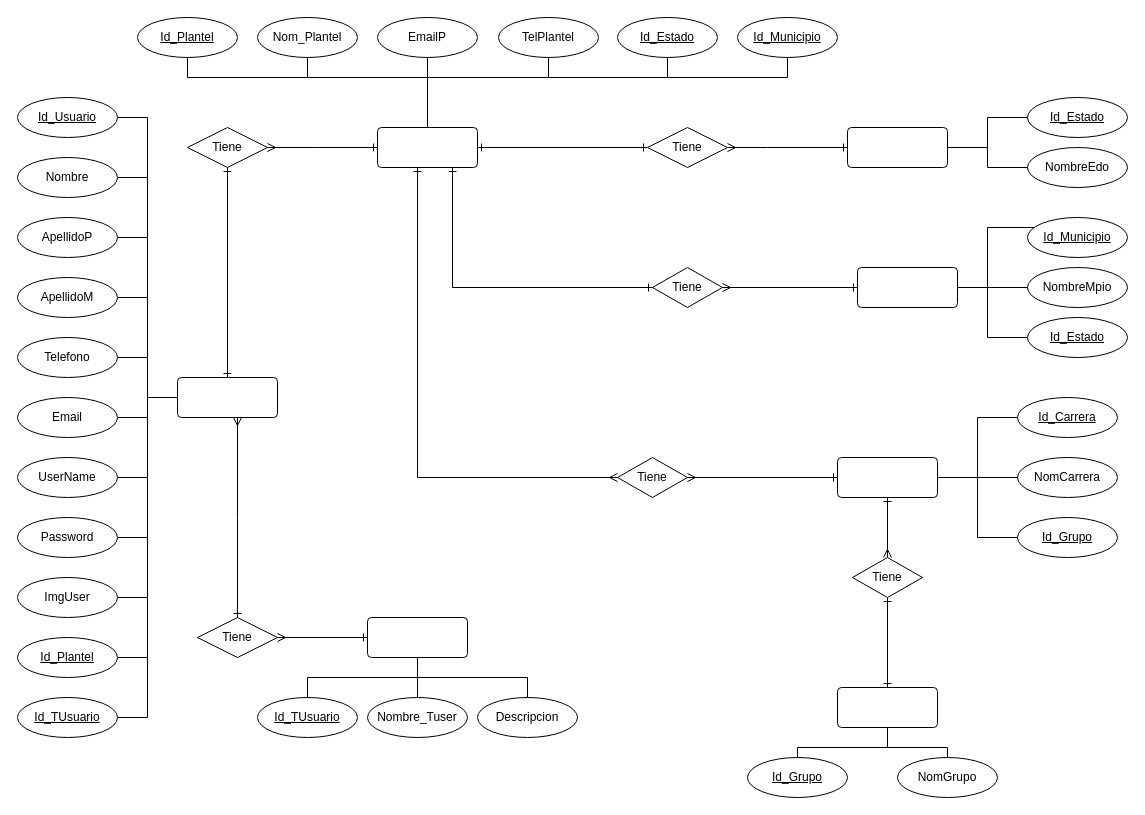
The diagram is 1145 pixels wide and 815 high, and some of its shapes have lost their labels. The centre of each missing label's shape, as x and y in pixels:
Carreras: the point at 887,477
Estados: the point at 897,147
Grupos: the point at 887,707
Municipios: the point at 907,287
Planteles: the point at 427,147
T_Usuario: the point at 417,637
Usuarios: the point at 227,397
